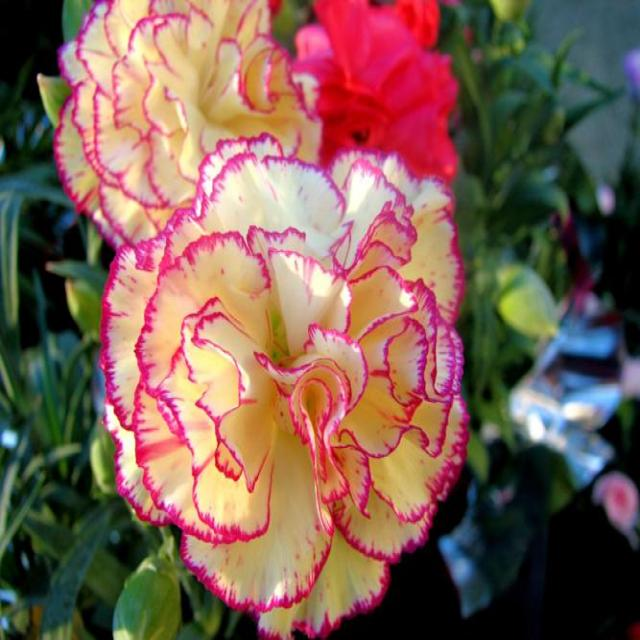carnation: (95, 146, 478, 625)
